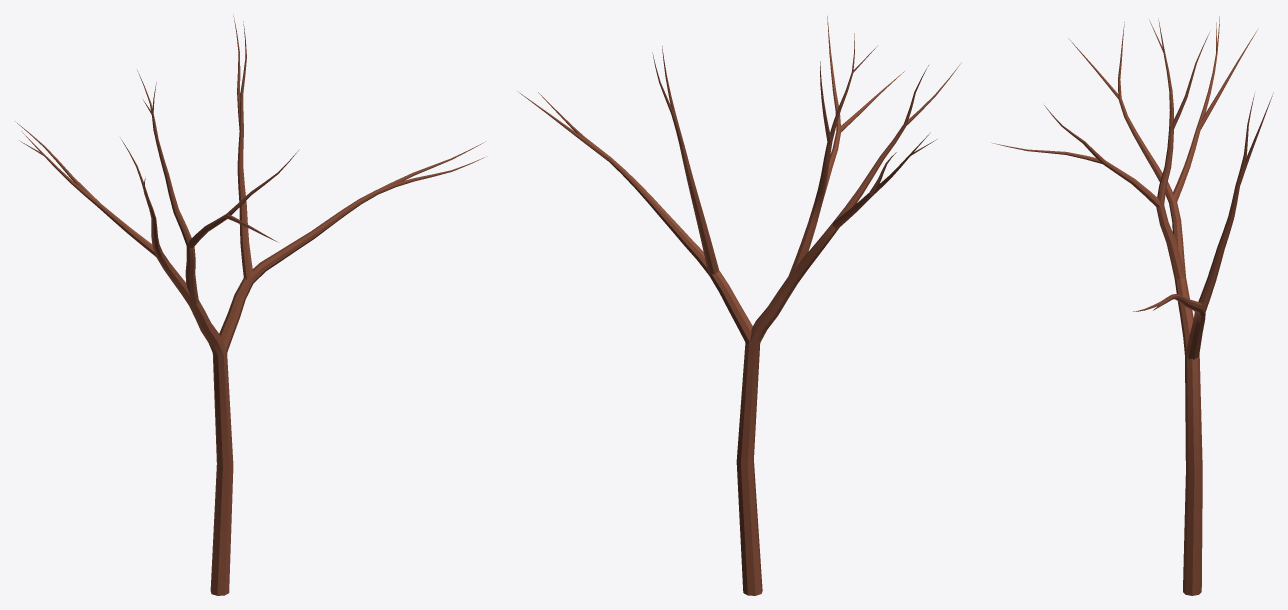
The model's file is Tree_03.fbx.
3 renders of one model, left to right at view 1: azimuth 30°, elevation 25°; view 2: azimuth 150°, elevation 25°; view 3: azimuth 270°, elevation 25°, orthographic. The views are drawn at different scales.
Visible parts, largest first — view 1: Tree_03; view 2: Tree_03; view 3: Tree_03.
Part boxes in pixels (x1=…): Tree_03: x1=15, y1=14, x2=486, y2=595; Tree_03: x1=517, y1=16, x2=961, y2=595; Tree_03: x1=991, y1=16, x2=1273, y2=595.
Bounding box in the file's own units: 788 × 935 × 450.
